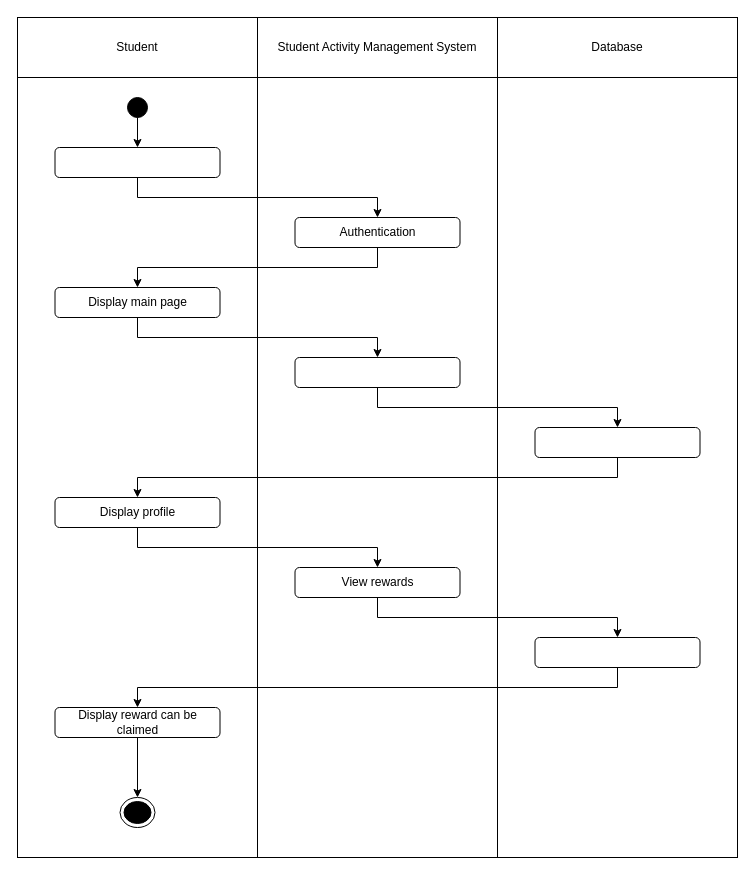
Some shapes in this 755 by 875 pixel diagram are drawn without their labels. Each missing label, with the box of its shape:
Log in: (54, 146, 220, 178)
Retrieve profile: (534, 426, 700, 458)
Retrieve rewards: (534, 636, 700, 668)
View profile: (294, 356, 460, 388)
